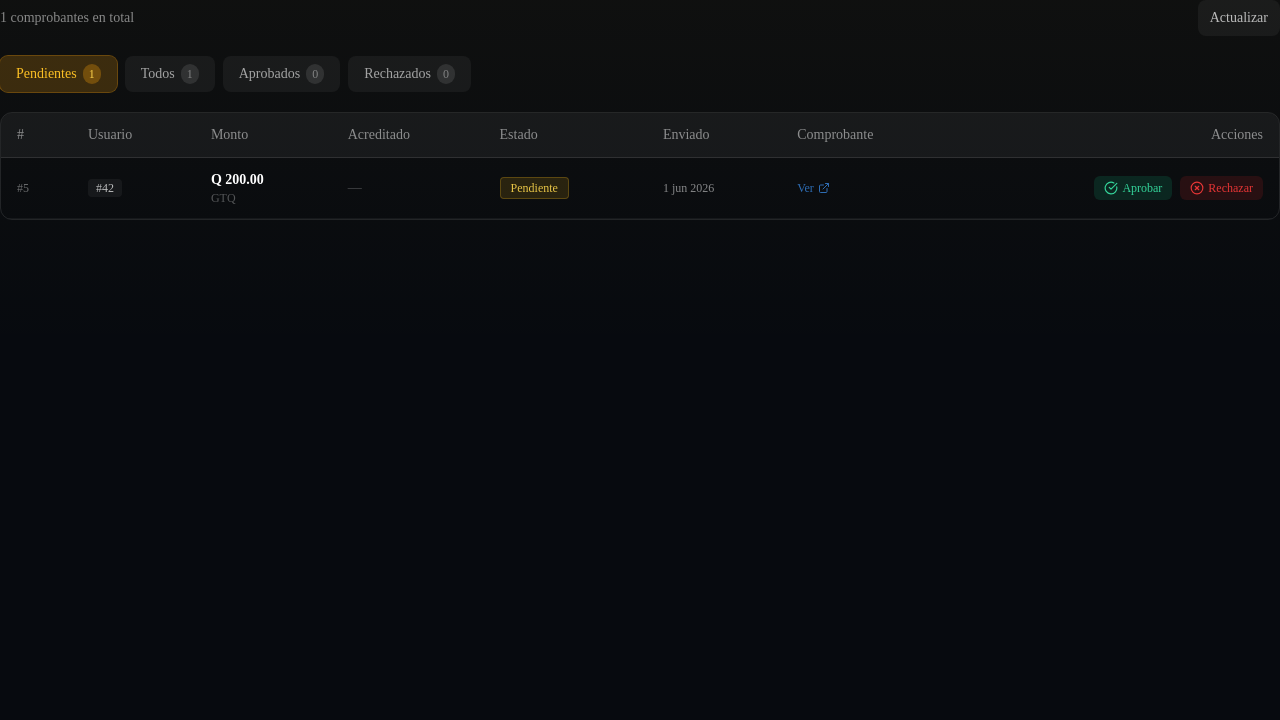
BankTransfersTab – approve modal › opens approve modal when Aprobar is clicked
Click the button "Aprobar" at (1133, 188), box [1094,176,1172,200]
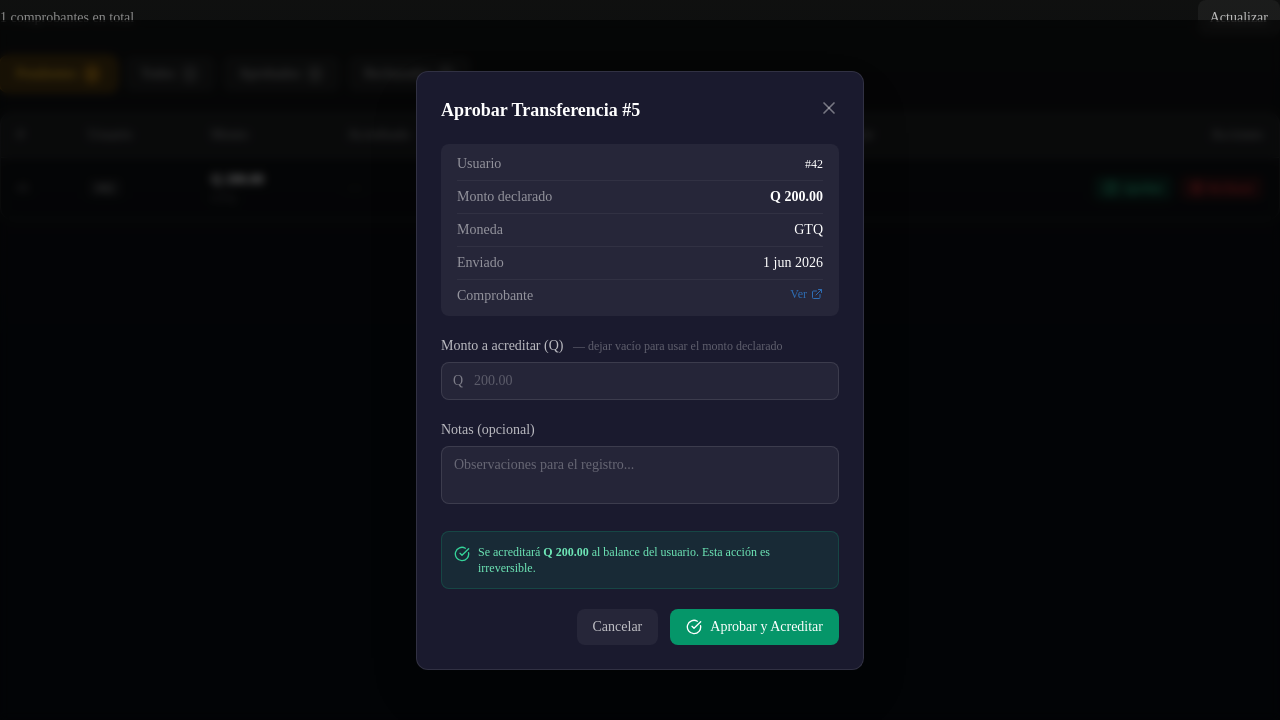
Expected: the heading "Aprobar Transferencia #5" is shown, [441,96,640,124]
